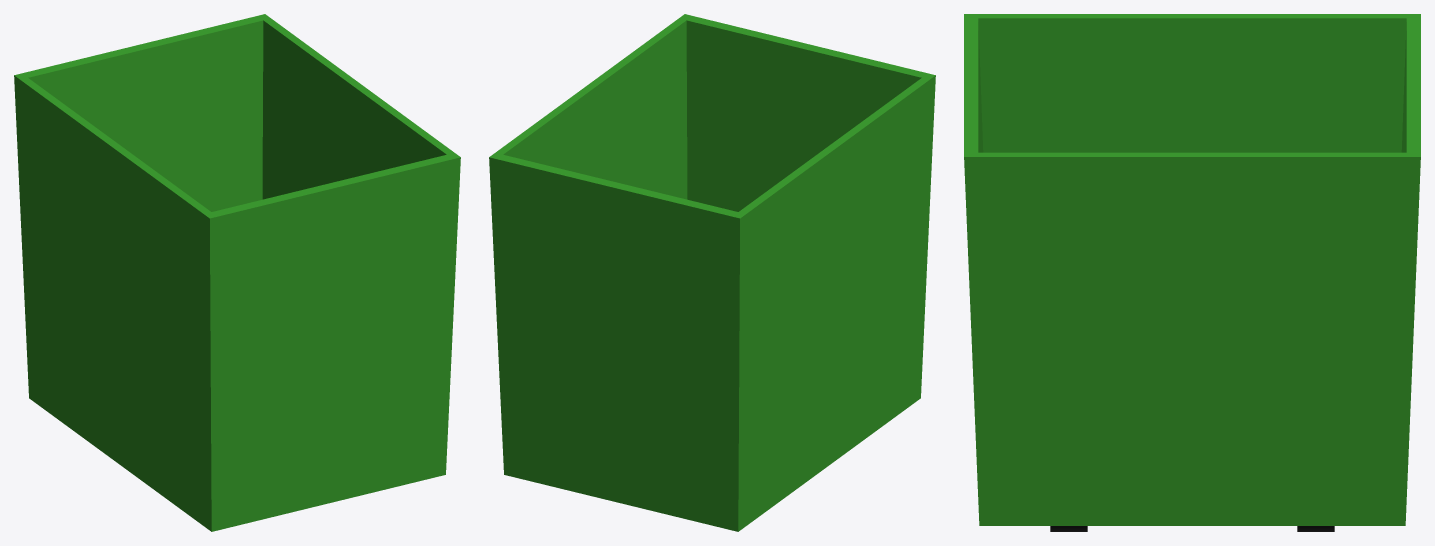
The model's file is green_bin.obj.
The picture shows the model from 3 angles, left to right: view 1: azimuth 30°, elevation 25°; view 2: azimuth 150°, elevation 25°; view 3: azimuth 270°, elevation 25°; orthographic projection. The views are drawn at different scales.
Visible parts, largest first — view 1: green_bin; view 2: green_bin; view 3: green_bin.
Part boxes in pixels (x1,y1,x2,y2): green_bin: (14,14,460,531); green_bin: (489,14,935,531); green_bin: (964,14,1420,531).
Size of the model in its own units: 0.274 by 0.3643 by 0.37.
